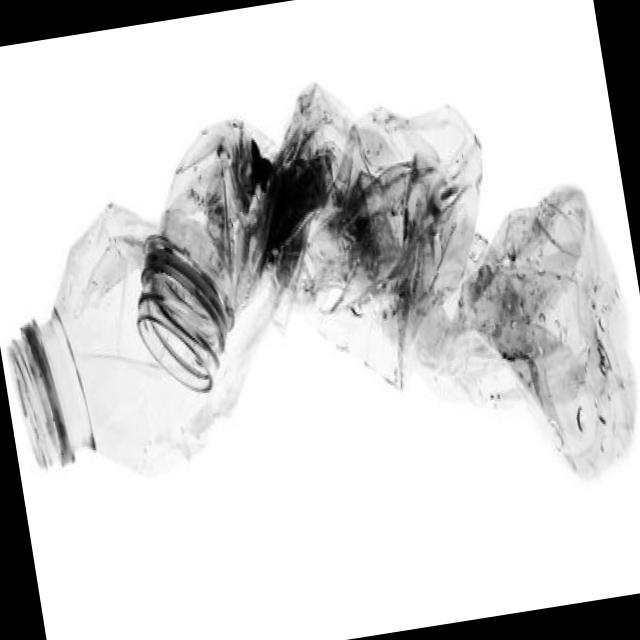general: (0, 37, 640, 563)
